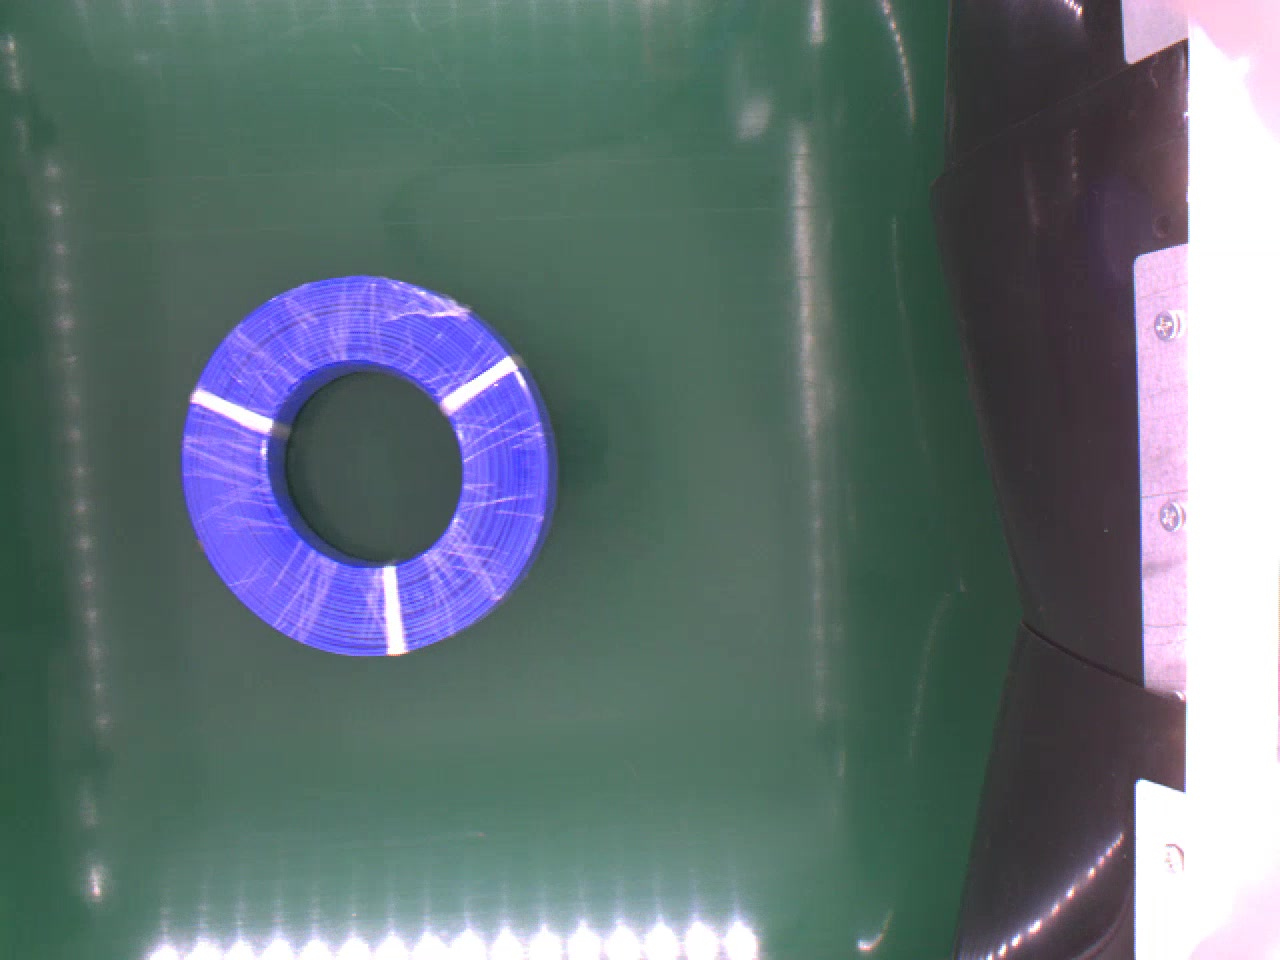blue: (171, 271, 553, 655)
